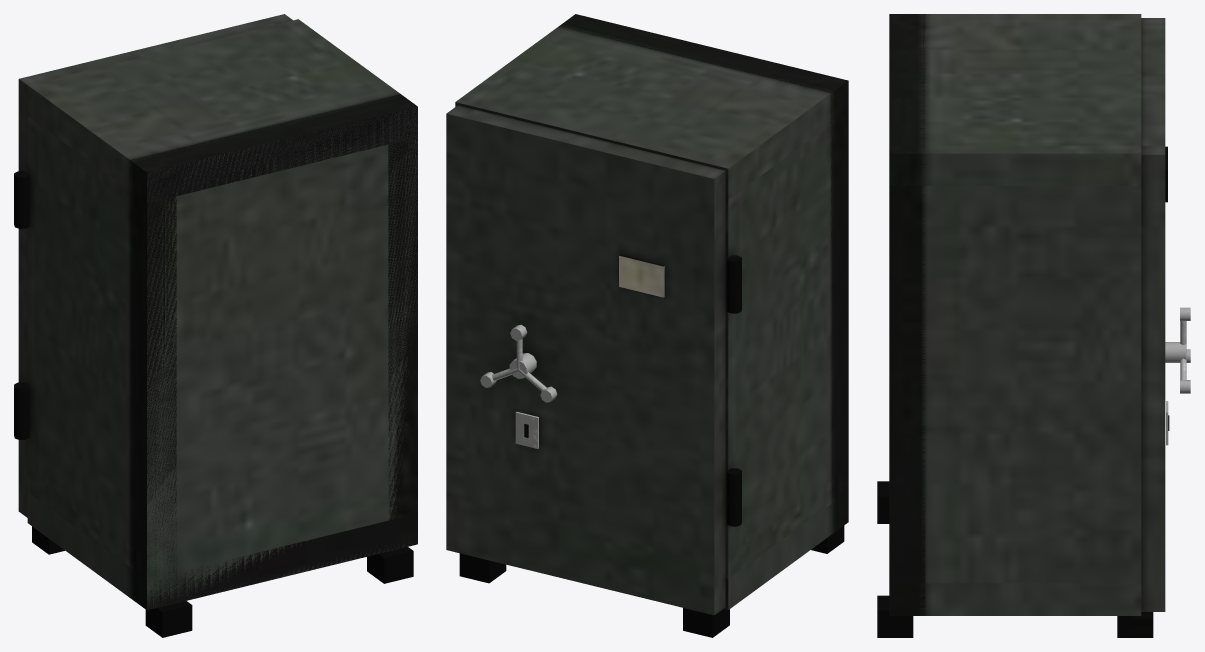
The model's file is safe_lod1_web.glb.
3 renders of one model, left to right at view 1: azimuth 30°, elevation 25°; view 2: azimuth 150°, elevation 25°; view 3: azimuth 270°, elevation 25°, orthographic. The views are drawn at different scales.
Visible parts, largest first — view 1: Safe_Body, Door_Safe_Mesh; view 2: Door_Safe_Mesh, Safe_Body, Chrome_Door_Safe; view 3: Safe_Body, Door_Safe_Mesh, Chrome_Door_Safe.
Boxes of the visible parts, bbox=[...] form: Safe_Body: bbox=[14, 19, 417, 637]; Door_Safe_Mesh: bbox=[18, 14, 292, 517]; Door_Safe_Mesh: bbox=[446, 105, 725, 615]; Safe_Body: bbox=[455, 14, 848, 637]; Chrome_Door_Safe: bbox=[480, 324, 557, 448]; Safe_Body: bbox=[877, 14, 1153, 637]; Door_Safe_Mesh: bbox=[1141, 18, 1167, 611]; Chrome_Door_Safe: bbox=[1165, 307, 1190, 445].
Size of the model in its own units: 0.576 by 0.9 by 0.522.
Materials: 2 (2 with a texture image).
